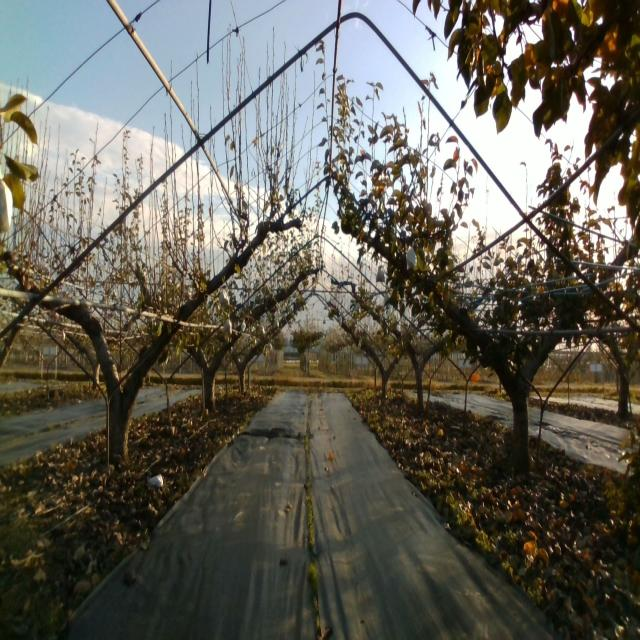pearbags: (405, 247, 417, 270)
